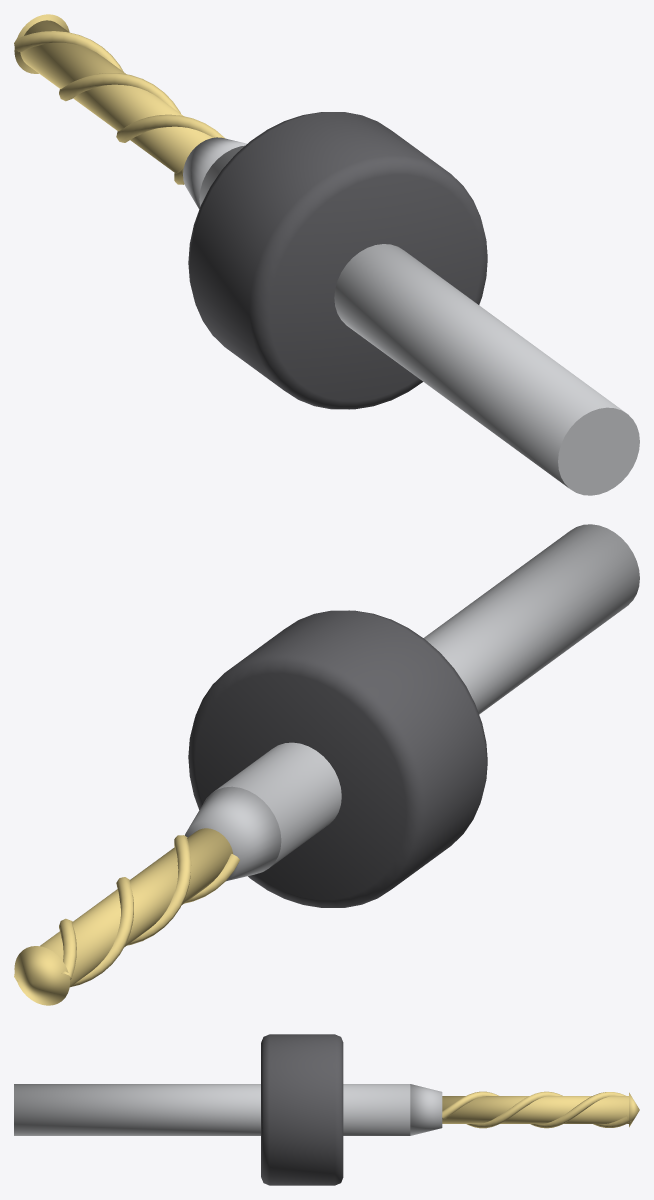
The model's file is drill18_2p2.glb.
The picture shows the model from 3 angles, top to bottom: view 1: azimuth 30°, elevation 25°; view 2: azimuth 150°, elevation 25°; view 3: azimuth 270°, elevation 25°; orthographic projection. The views are drawn at different scales.
Parts seen in each view (by area): view 1: Cylinder.002, Cylinder.001, Cylinder, flute, Cone, flute.001; view 2: Cylinder.002, Cylinder.001, Cylinder, Cone, Cone.001, flute, flute.001; view 3: Cylinder.001, Cylinder.002, Cylinder, Cone, flute, flute.001.
Boxes of the visible parts, x1,y1,x2,y2 form: Cylinder.002: (188,112,487,409); Cylinder.001: (199,145,639,495); Cylinder: (20,20,212,175); flute: (14,31,225,142); Cone: (183,137,247,209); flute.001: (59,73,184,184); Cylinder.002: (188,610,487,907); Cylinder.001: (214,524,639,867); Cylinder: (40,828,232,986); Cone: (185,786,281,881); Cone.001: (14,946,69,1005); flute: (59,835,191,979); flute.001: (14,854,239,987); Cylinder.001: (14,1084,410,1135); Cylinder.002: (261,1034,343,1185); Cylinder: (442,1096,628,1123); Cone: (410,1084,442,1135); flute: (442,1091,625,1128); flute.001: (466,1091,631,1128).
Size of the model in its own units: 0.00917 by 0.00917 by 0.038.
